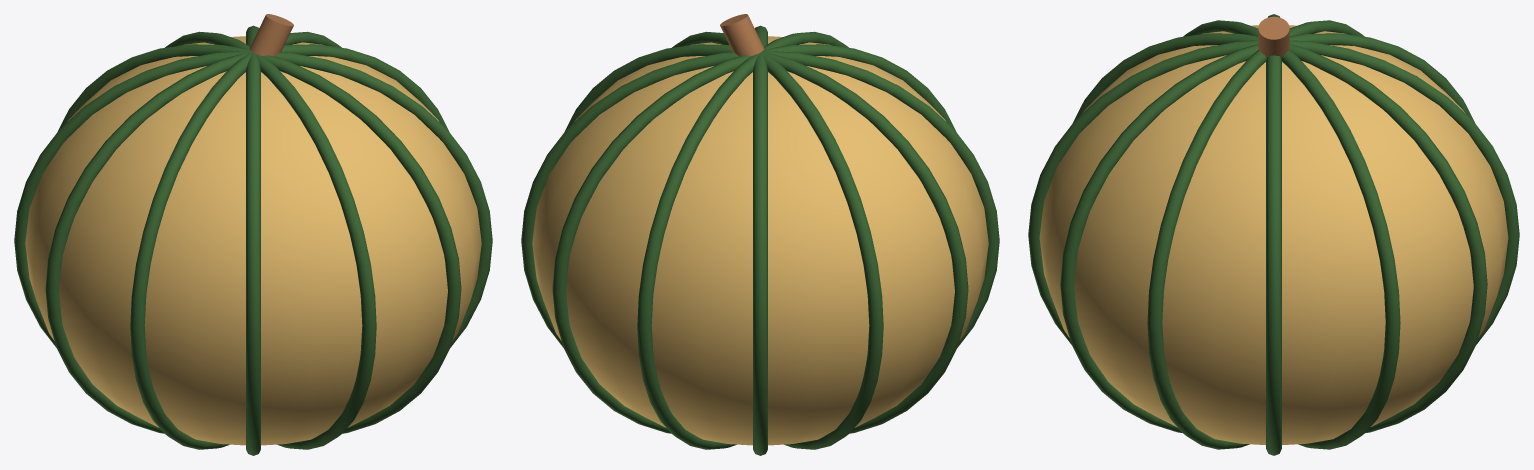
Rendered from wp-melon-de-cavaillon.glb.
3 renders of one model, left to right at view 1: azimuth 30°, elevation 25°; view 2: azimuth 150°, elevation 25°; view 3: azimuth 270°, elevation 25°, orthographic. The views are drawn at different scales.
Visible parts, largest first — view 1: wp-melon-de-cavaillon; view 2: wp-melon-de-cavaillon; view 3: wp-melon-de-cavaillon.
Boxes of the visible parts, left/top/right/bottom form: wp-melon-de-cavaillon: left=14, top=14, right=492, bottom=455; wp-melon-de-cavaillon: left=521, top=14, right=999, bottom=455; wp-melon-de-cavaillon: left=1028, top=14, right=1519, bottom=455.
Bounding box in the file's own units: 0.18 × 0.17 × 0.18.
